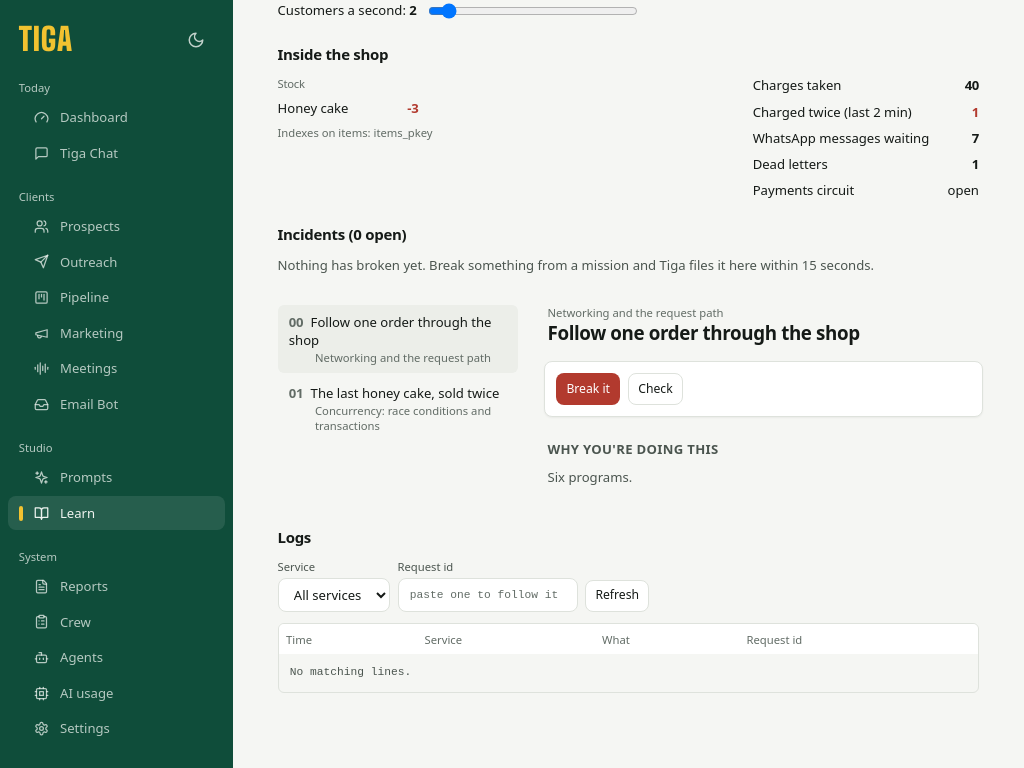
Test: Learn (ShopLab) › reads a mission in its parts and runs its buttons and check
(page scrolled)
Step 1. Click the button "The last honey cake" → [398, 408], box [278, 376, 518, 440]
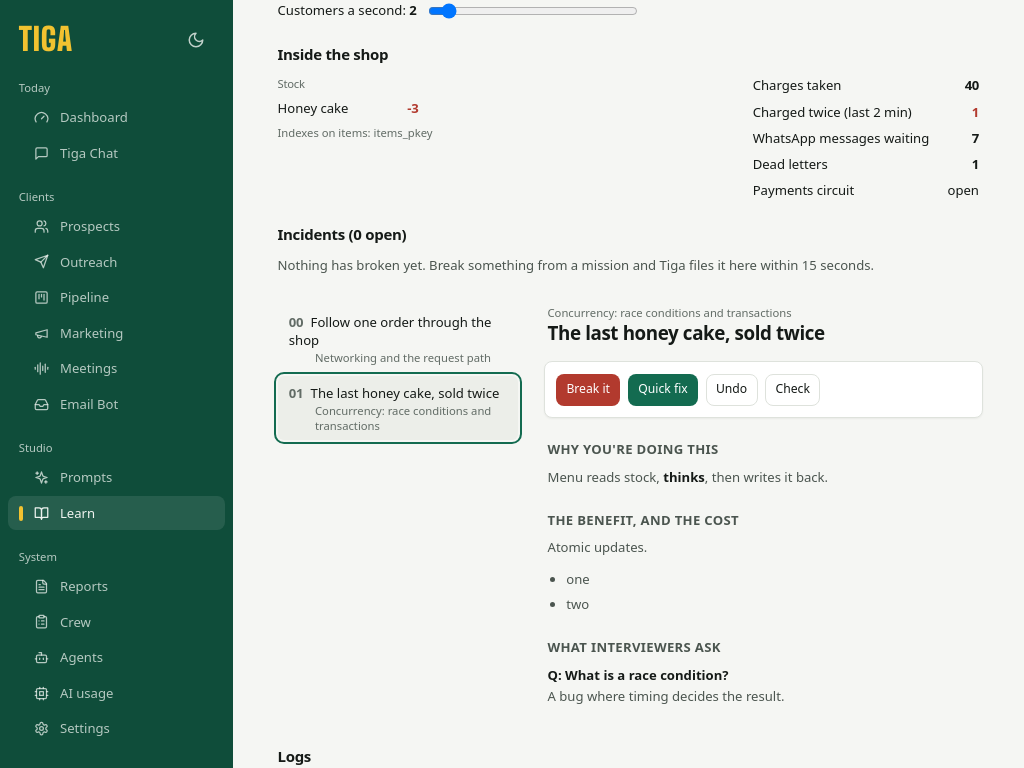
Expected: the text "thinks" is shown, [663, 468, 705, 486]
Expected: the text "Q: What is a race condition?" is shown, [548, 666, 729, 684]
Step 2. Click the button "Break it" → [588, 390], box [556, 374, 620, 406]
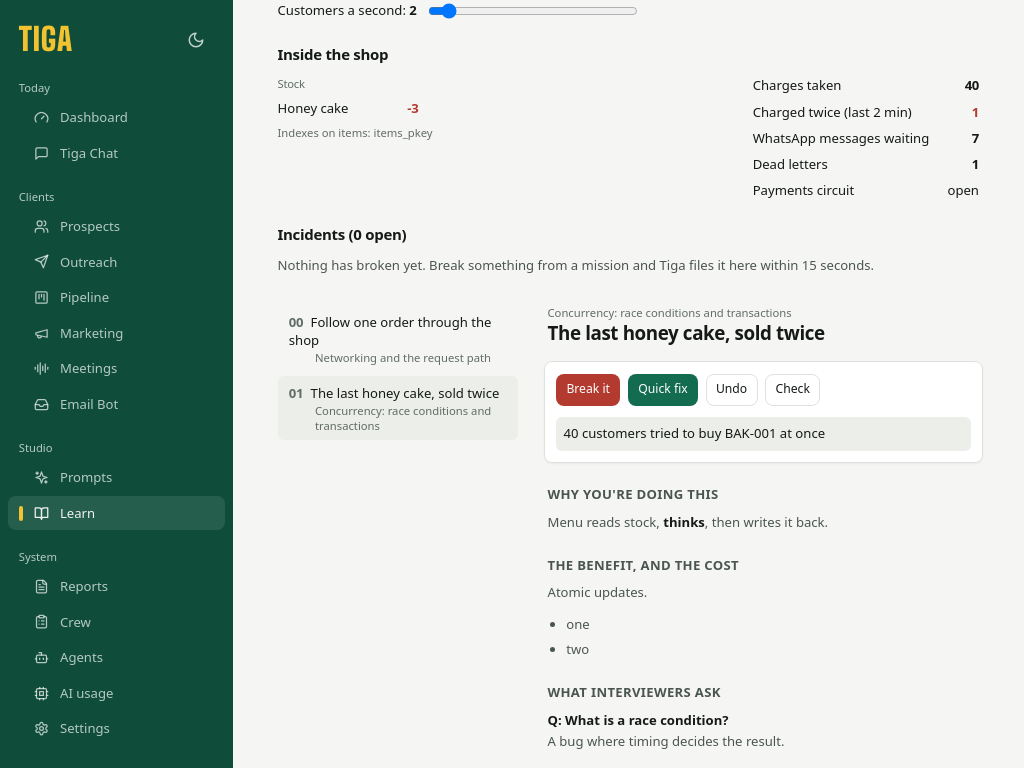
Expected: the text "40 customers tried to buy BAK-001 at once" is shown, [556, 417, 970, 451]
Step 3. Click the button "Check" → [793, 390], box [765, 374, 820, 406]
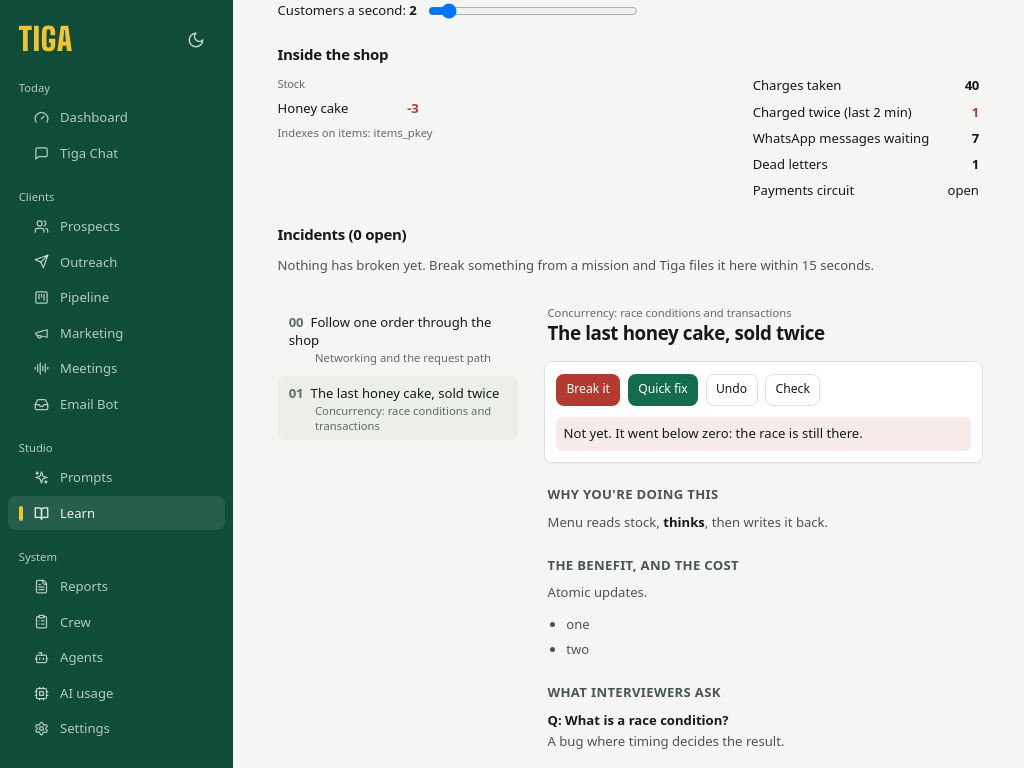
Expected: the text "Not yet. It went below zero: the race is still there." is shown, [556, 417, 970, 451]
